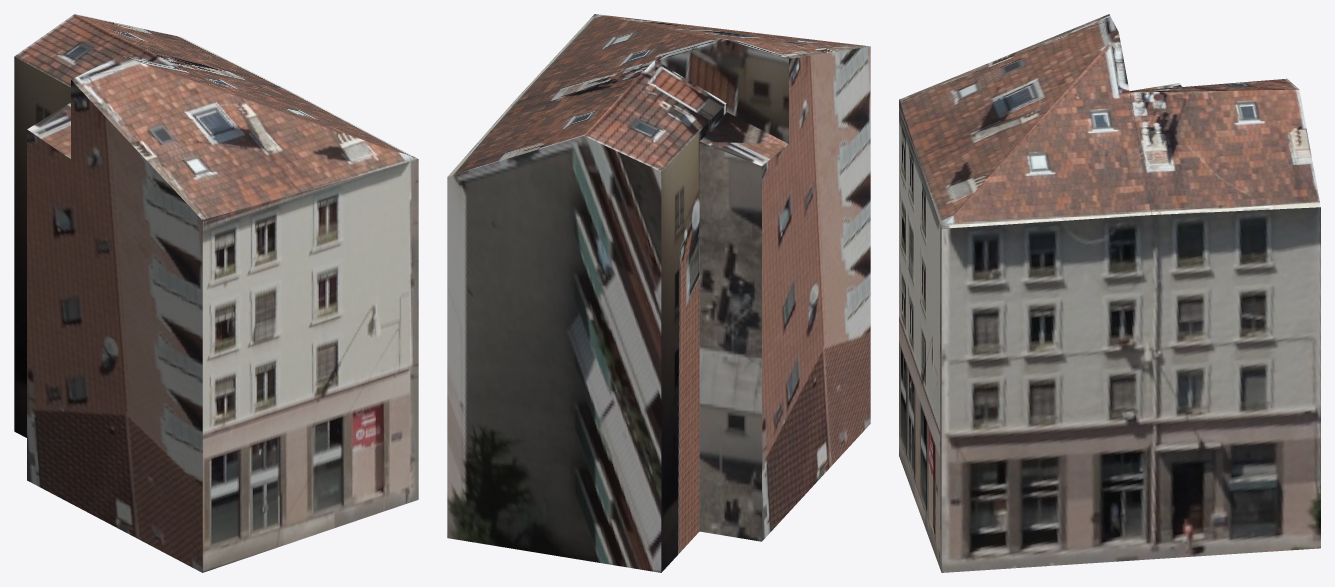
The picture shows the model from 3 angles, left to right: view 1: azimuth 30°, elevation 25°; view 2: azimuth 150°, elevation 25°; view 3: azimuth 270°, elevation 25°; orthographic projection. The views are drawn at different scales.
Parts seen in each view (by area): view 1: Z_UP; view 2: Z_UP; view 3: Z_UP.
Part boxes in pixels (x1,y1,x2,y2): Z_UP: [14, 14, 418, 572]; Z_UP: [447, 14, 870, 572]; Z_UP: [899, 14, 1320, 572].
Bounding box in the file's own units: 13.85 × 20.85 × 18.26.
Materials: 2 (1 with a texture image).
